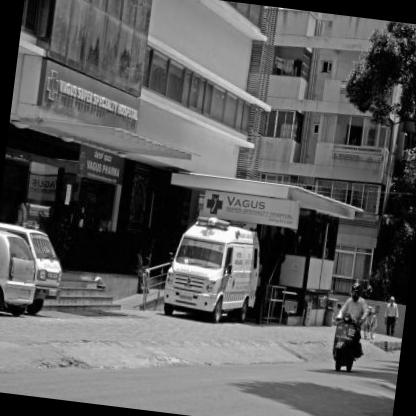ambulance: (164, 202, 268, 331)
